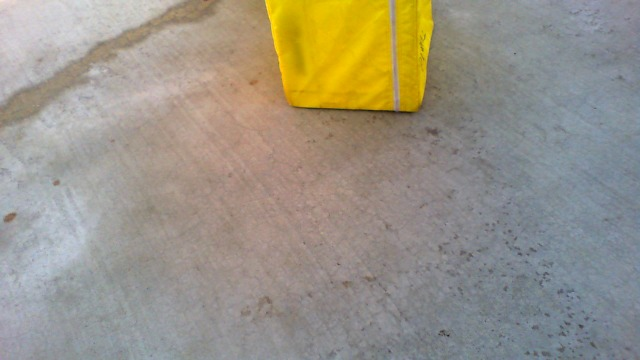cube: (264, 1, 433, 125)
